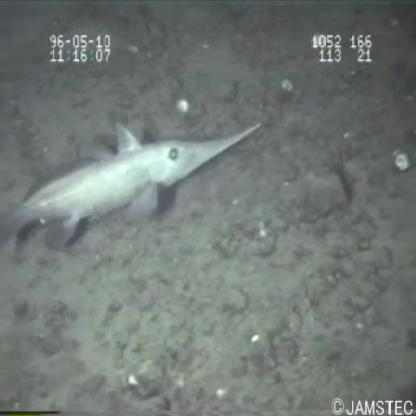Bio: (7, 114, 267, 258)
